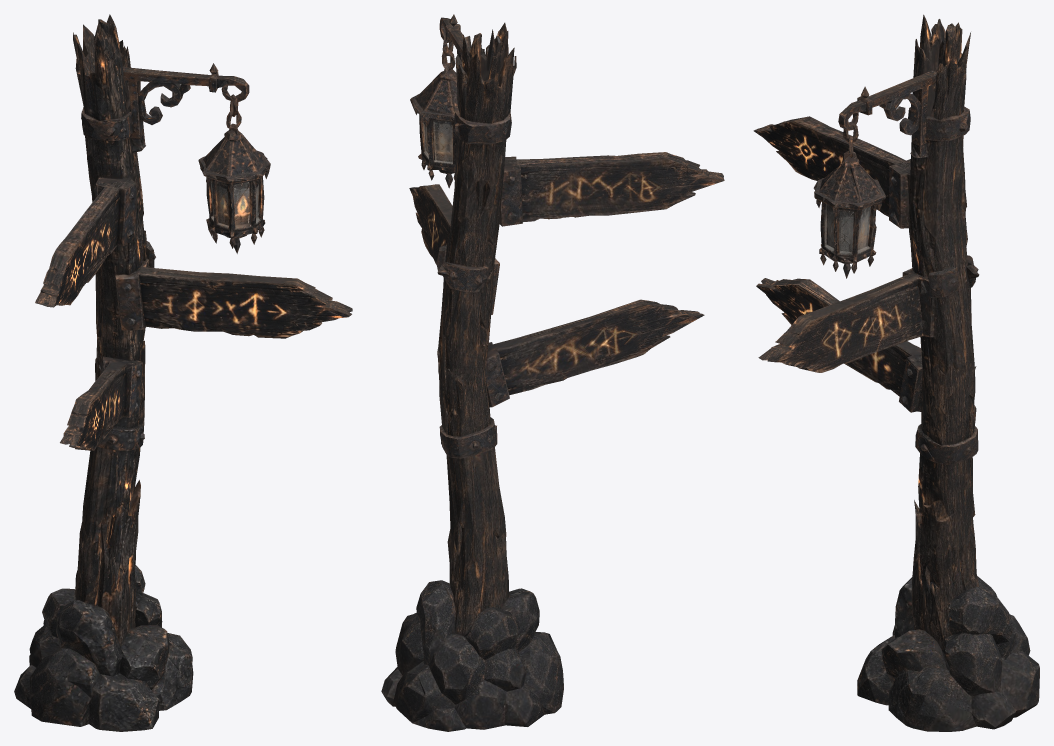
Rendered from signpost.glb.
3 renders of one model, left to right at view 1: azimuth 30°, elevation 25°; view 2: azimuth 150°, elevation 25°; view 3: azimuth 270°, elevation 25°, orthographic.
Size of the model in its own units: 0.9318 by 1.9 by 0.7325.
Materials: 1 (1 with a texture image).
